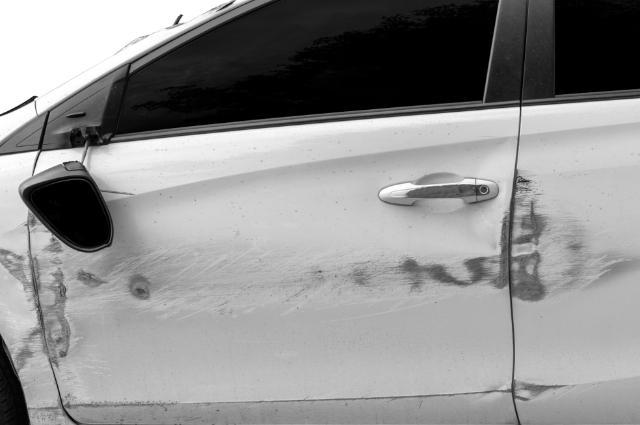Door: (36, 176, 517, 392), (516, 163, 640, 309)
Fender: (2, 200, 47, 388)
